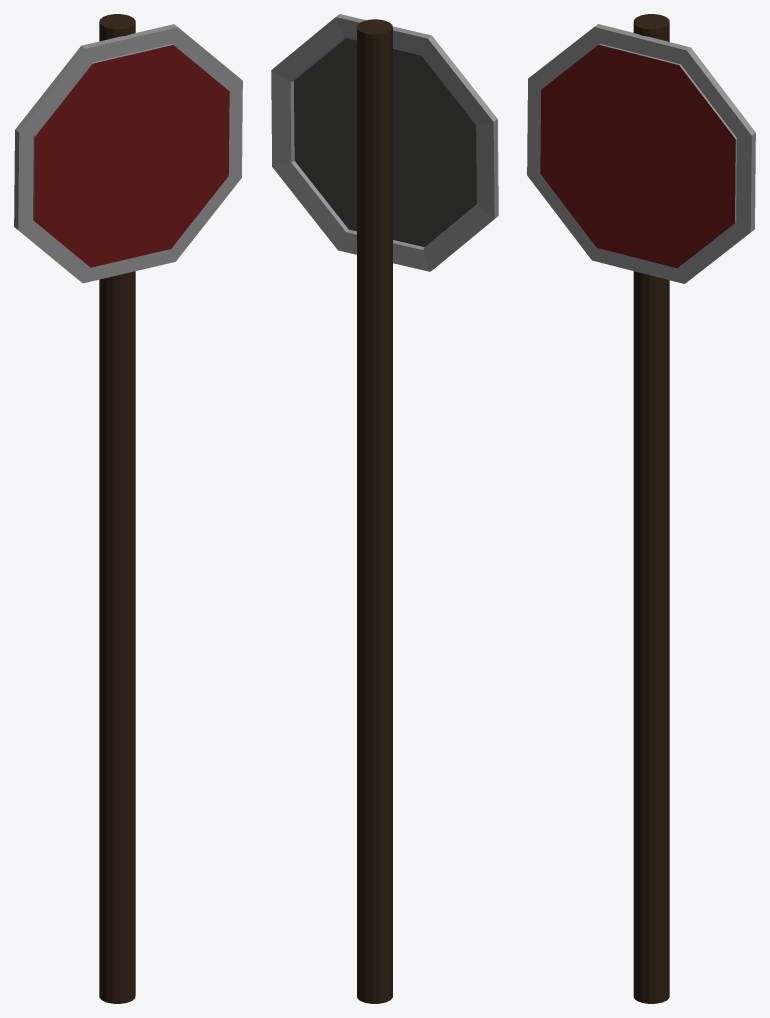
Rendered from StopSign.fbx.
3 views of the same model, side by side, from view 1: azimuth 30°, elevation 25°; view 2: azimuth 150°, elevation 25°; view 3: azimuth 330°, elevation 25° (orthographic).
Visible parts, largest first — view 1: Circle; view 2: Circle; view 3: Circle.
Part boxes in pixels (box(x1,y1,x2,y2)): Circle: box(14, 14, 242, 1003); Circle: box(271, 14, 498, 1003); Circle: box(527, 14, 755, 1003).
Size of the model in its own units: 186 by 769 by 33.2.
